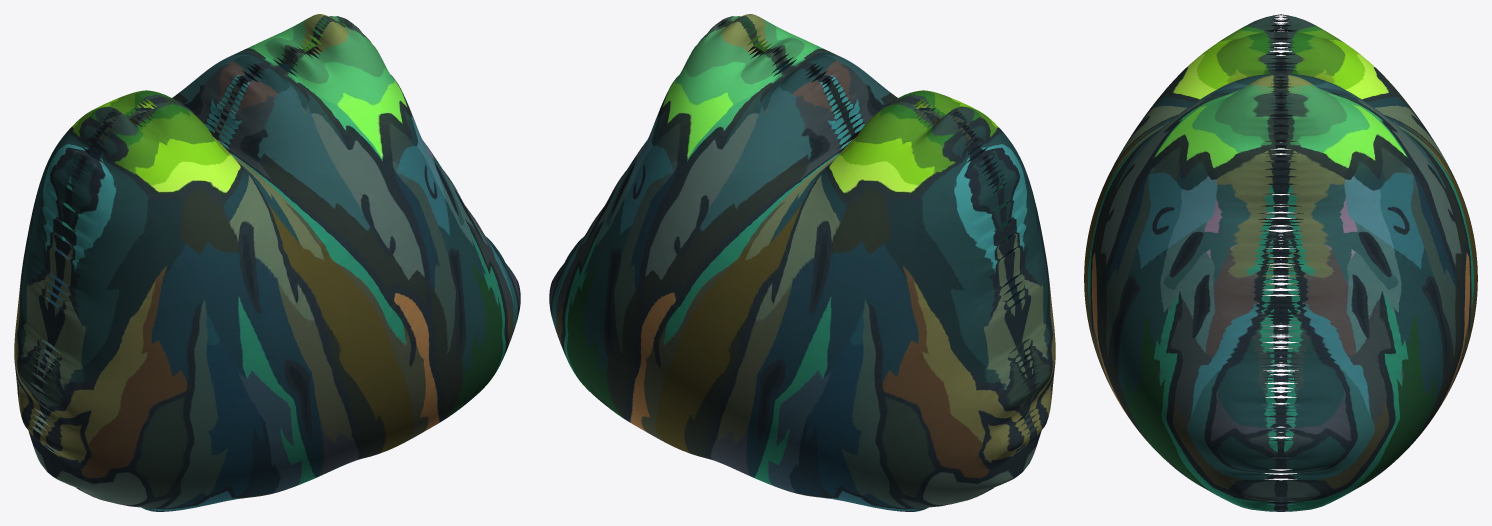
The model's file is shore_crags.glb.
3 views of the same model, side by side, from view 1: azimuth 30°, elevation 25°; view 2: azimuth 150°, elevation 25°; view 3: azimuth 270°, elevation 25° (orthographic). The views are drawn at different scales.
Visible parts, largest first — view 1: shore_crags; view 2: shore_crags; view 3: shore_crags.
Part boxes in pixels (x1=…): shore_crags: x1=14, y1=14, x2=520, y2=511; shore_crags: x1=549, y1=14, x2=1055, y2=511; shore_crags: x1=1084, y1=14, x2=1477, y2=511.
Bounding box in the file's own units: 0.989 × 0.8849 × 0.7432.
Materials: 1 (1 with a texture image).
